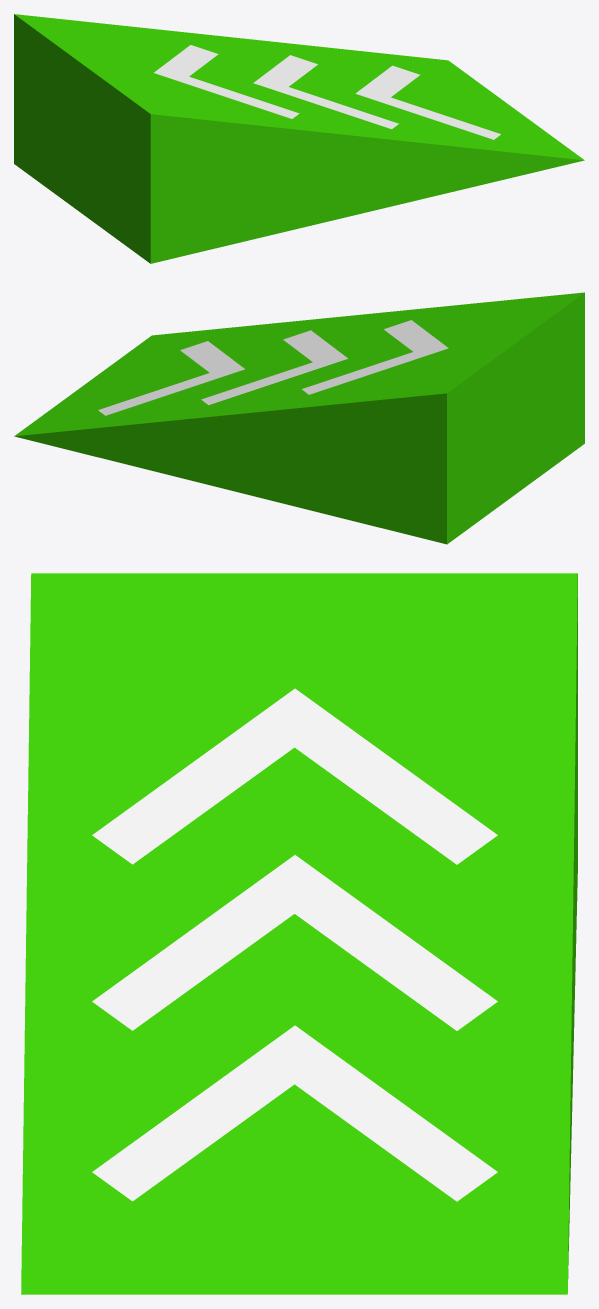
Rendered from Rampa_Pequeña_Velocidad.fbx.
3 views of the same model, one above another, from view 1: azimuth 30°, elevation 25°; view 2: azimuth 150°, elevation 25°; view 3: azimuth 270°, elevation 25° (orthographic). The views are drawn at different scales.
Parts seen in each view (by area): view 1: Box001; view 2: Box001; view 3: Box001.
Part boxes in pixels (x1=…): Box001: x1=14, y1=14, x2=584, y2=263; Box001: x1=14, y1=292, x2=584, y2=544; Box001: x1=21, y1=573, x2=577, y2=1294.
Bounding box in the file's own units: 39.09 × 12.96 × 21.82.
